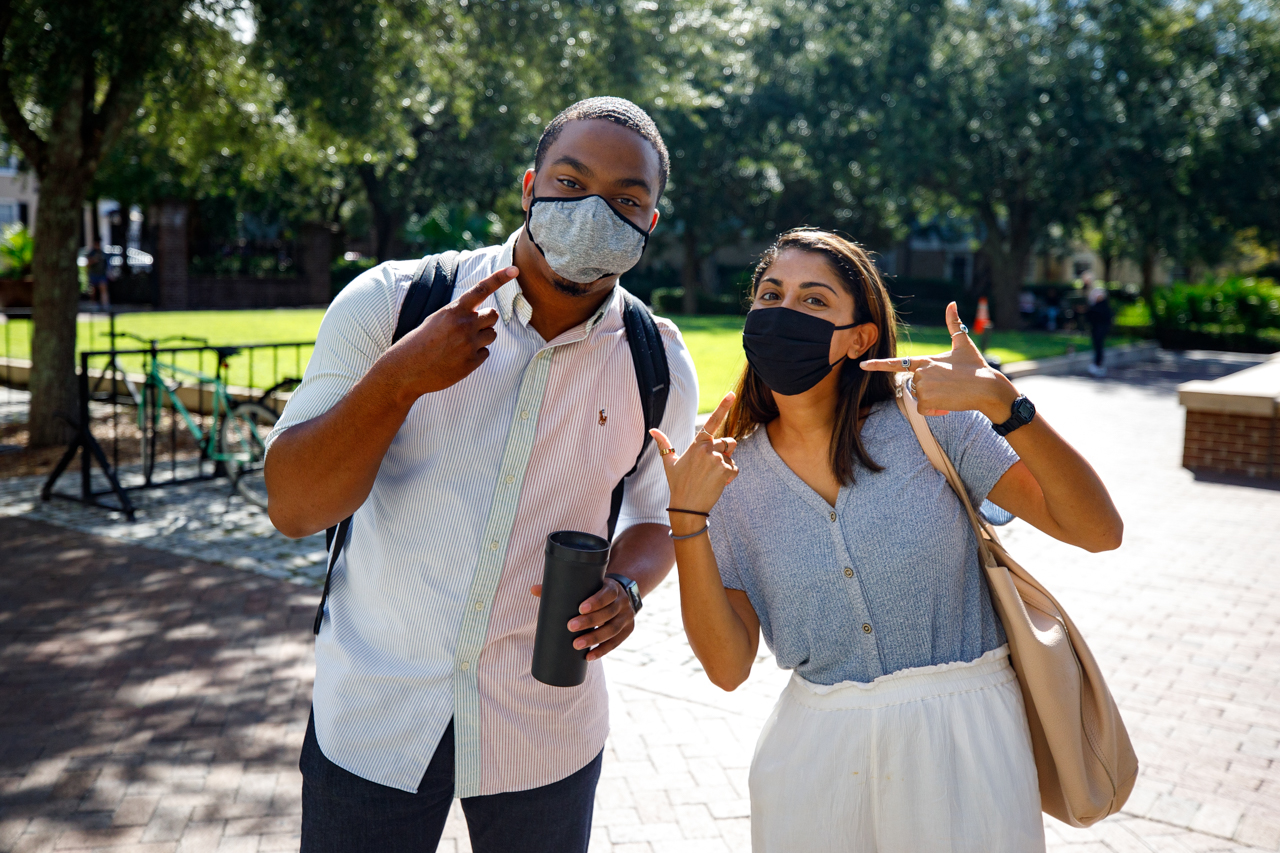with_mask: (723, 269, 868, 382), (542, 141, 640, 285)
